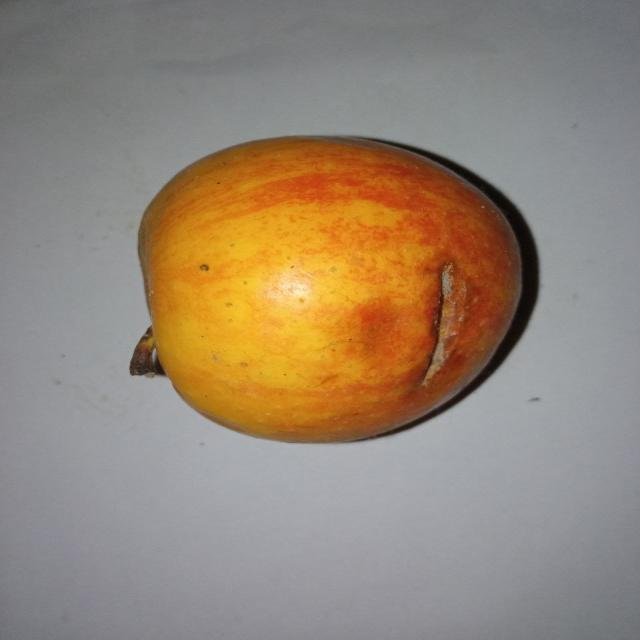rotten_apple: (129, 135, 523, 441)
